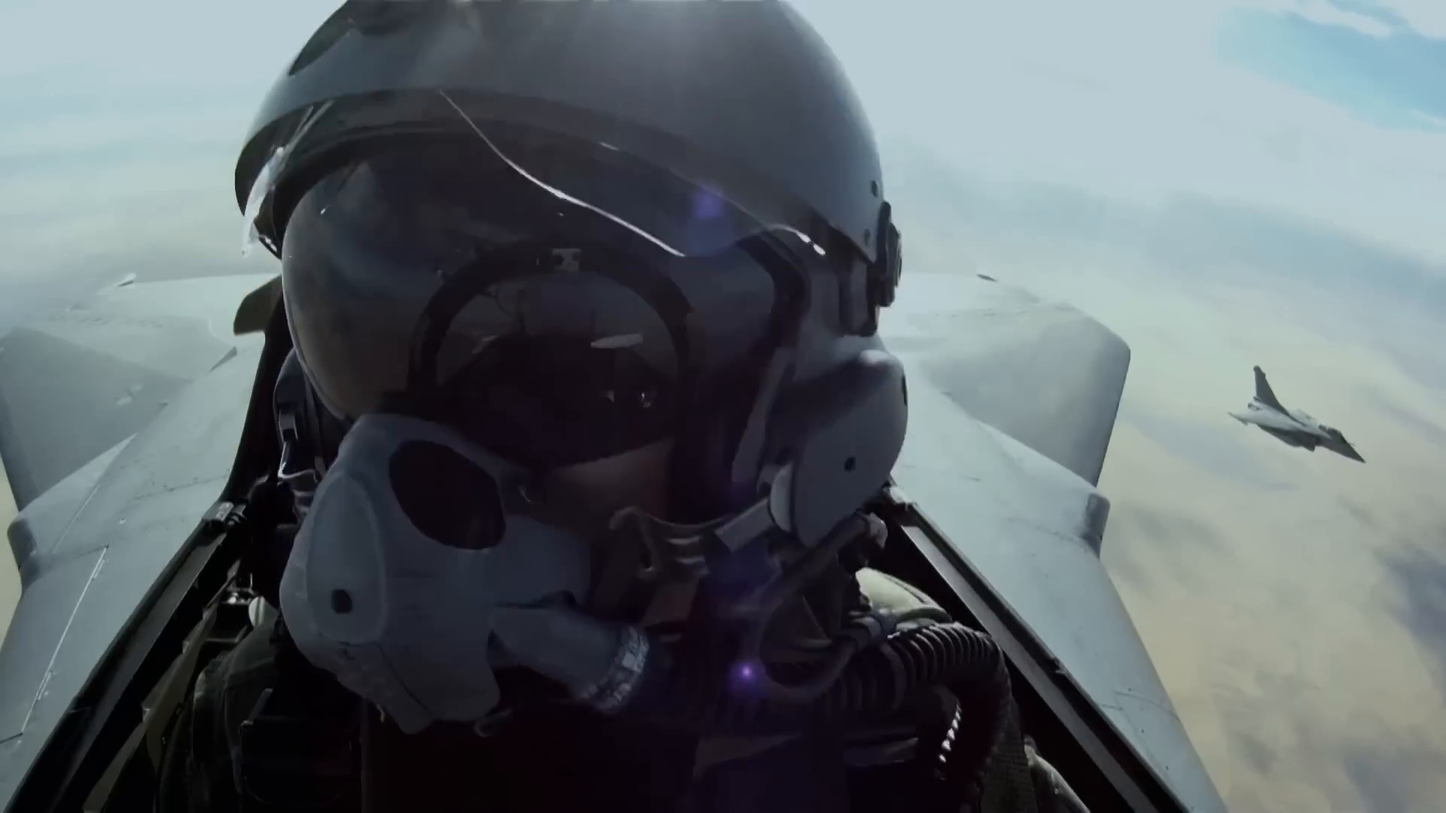Rafale: (1228, 361, 1370, 468)
